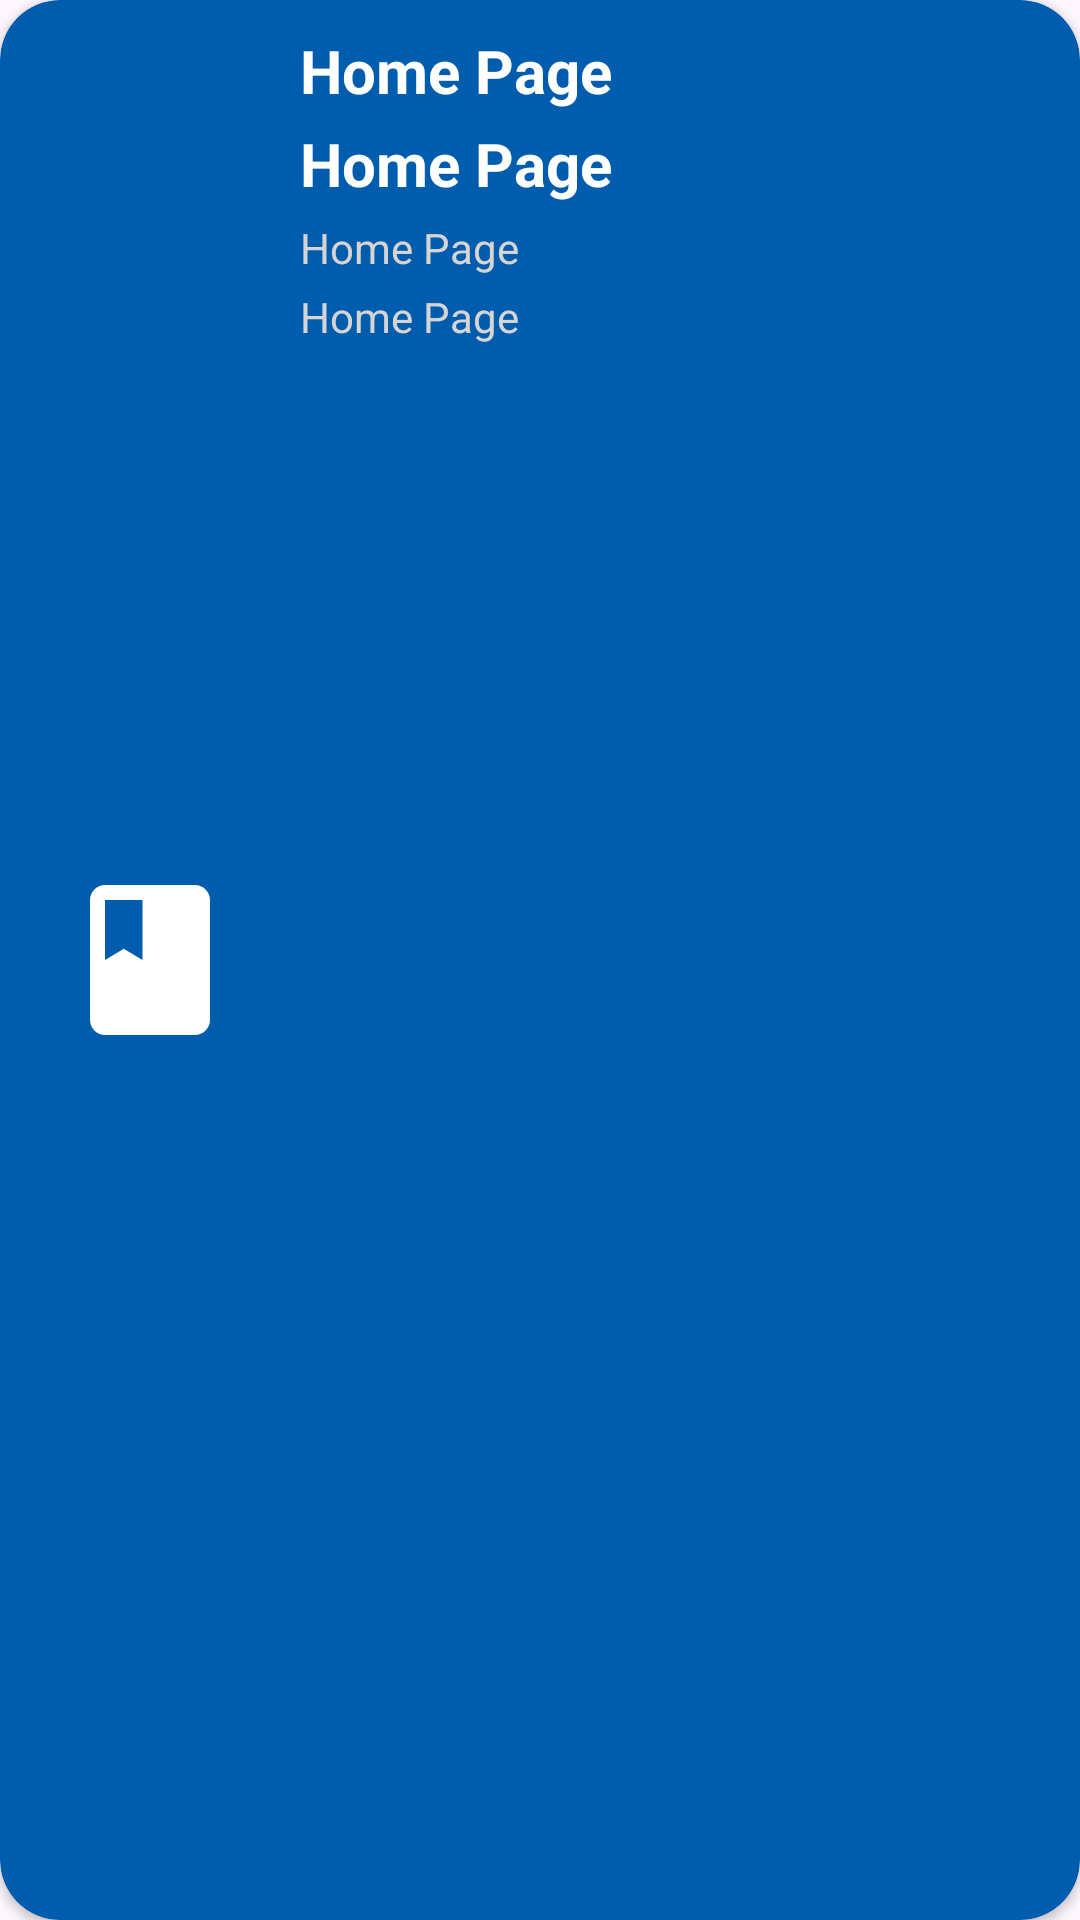

Where to tap for icons on this 1080 x 1920 app screen, as (x,y):
class: (150,960)
